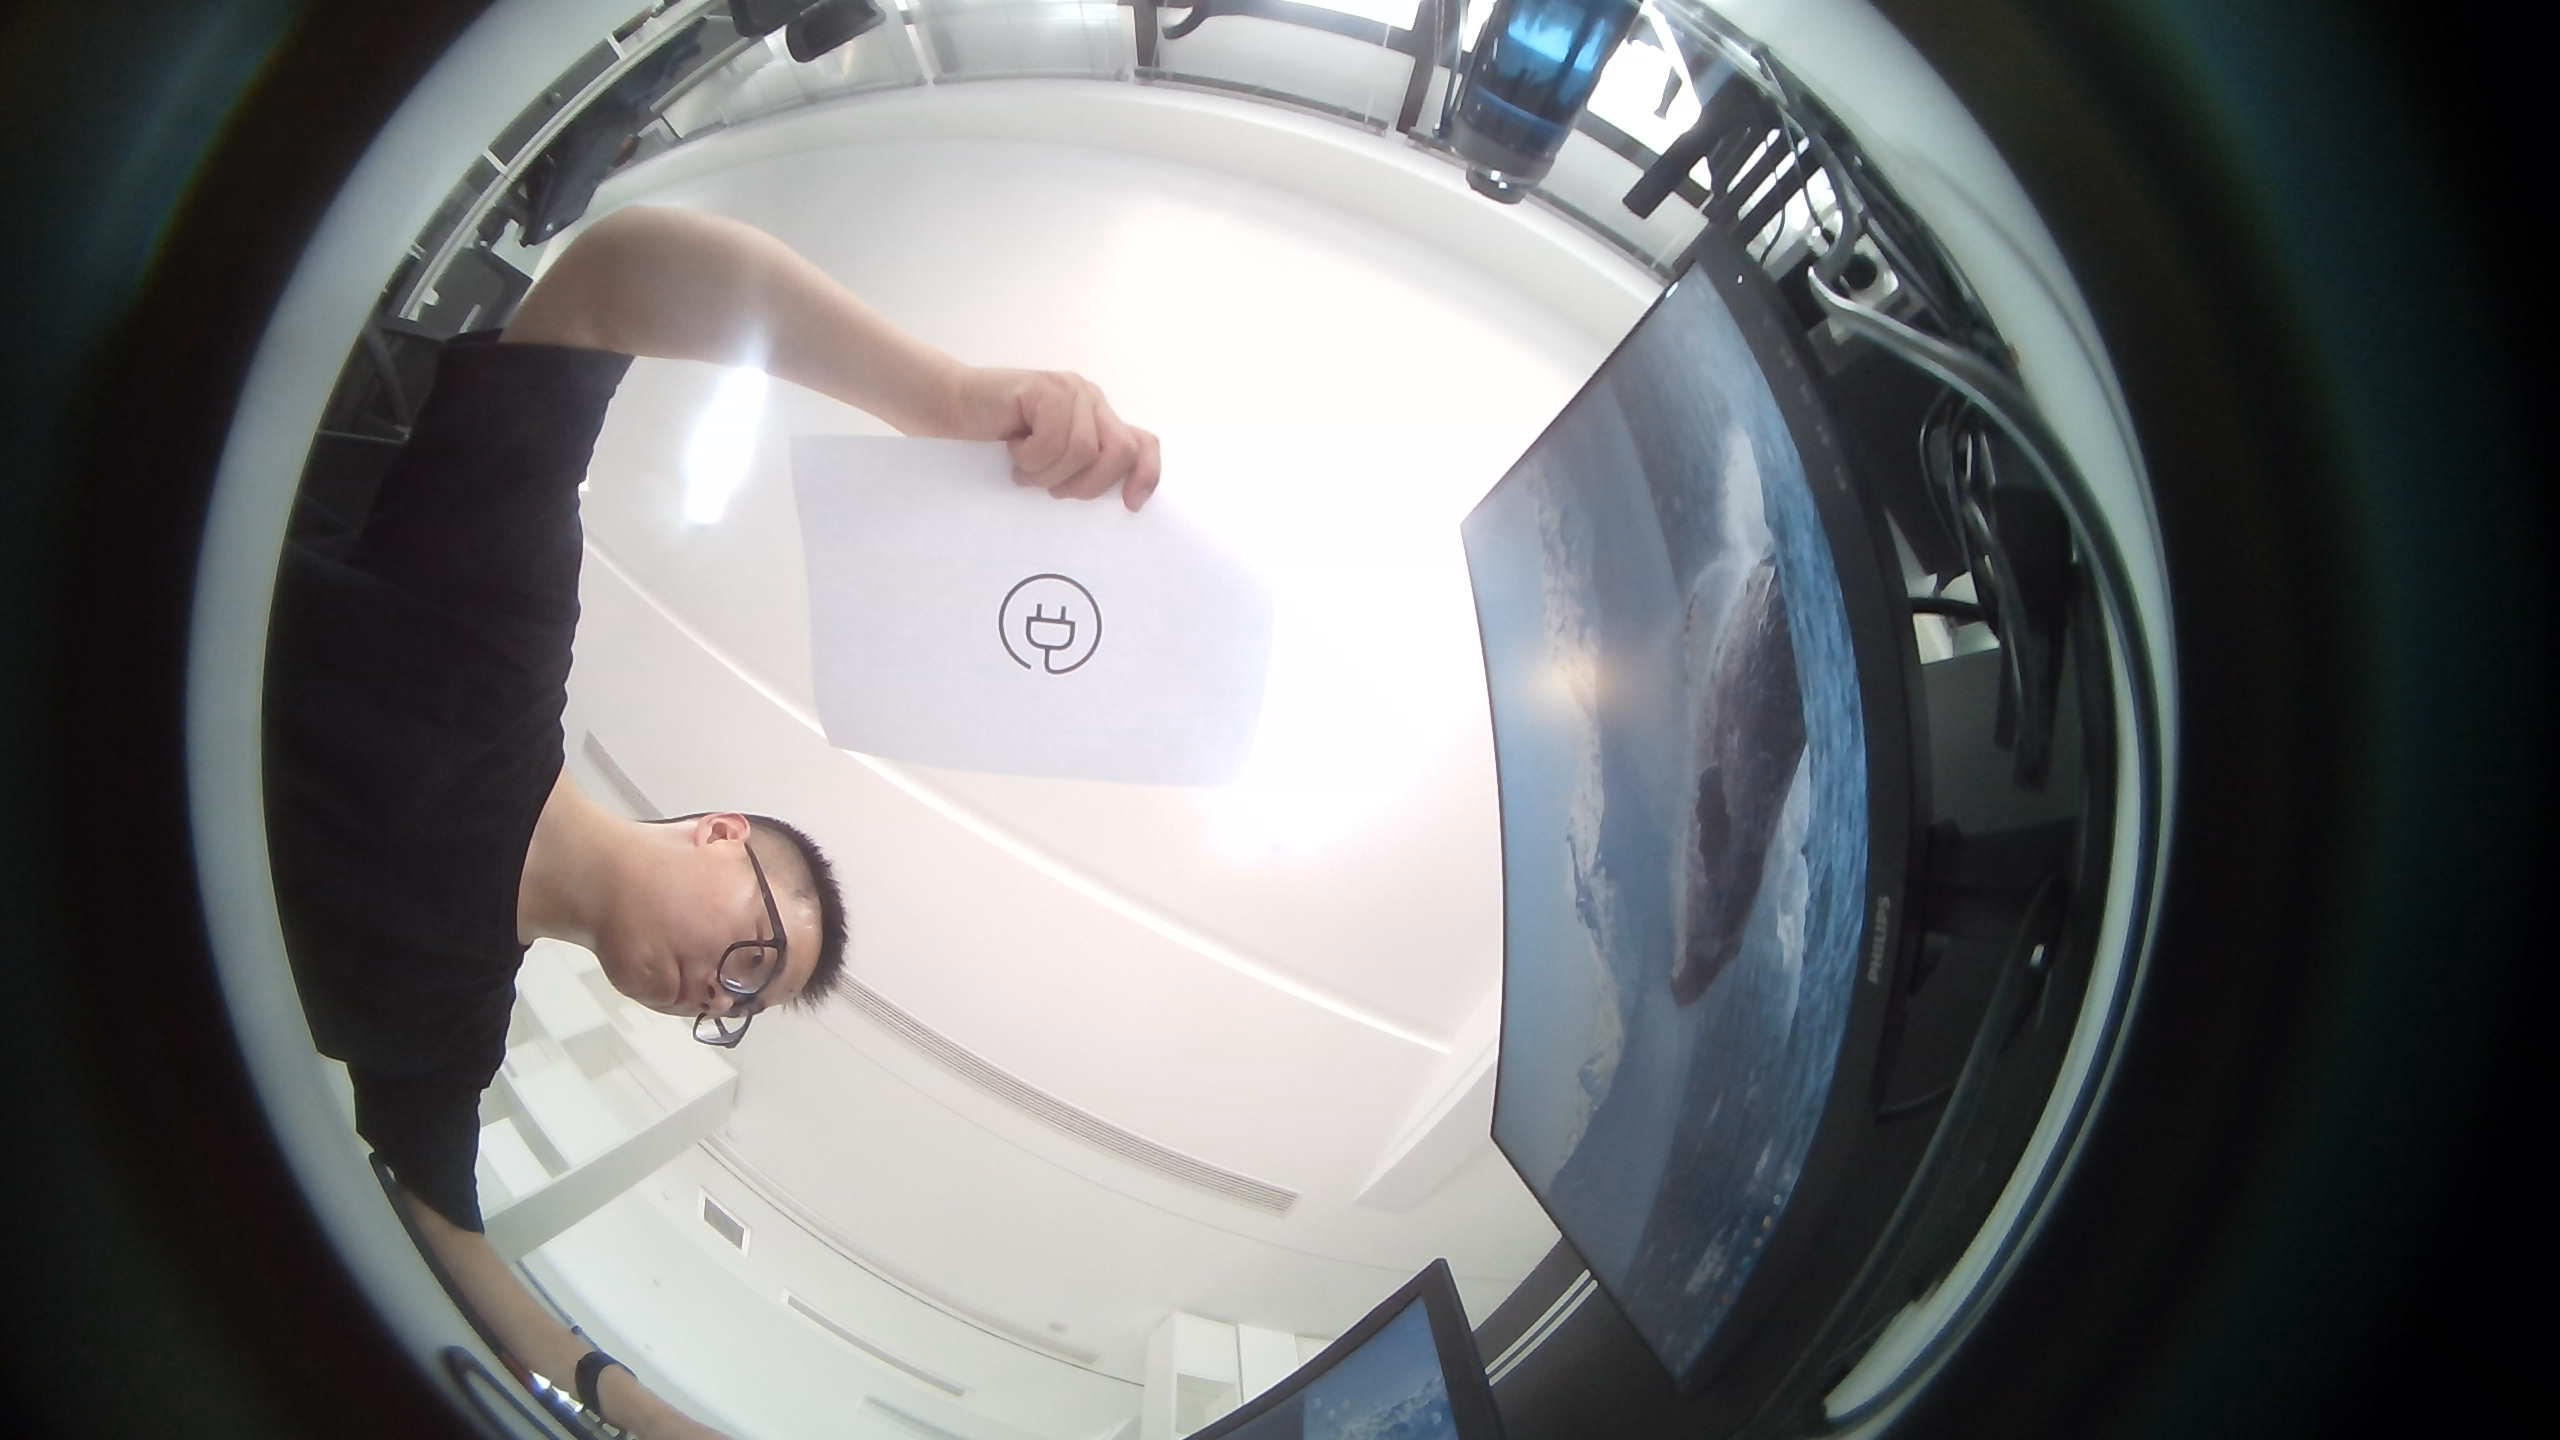charge: (995, 566, 1108, 680)
